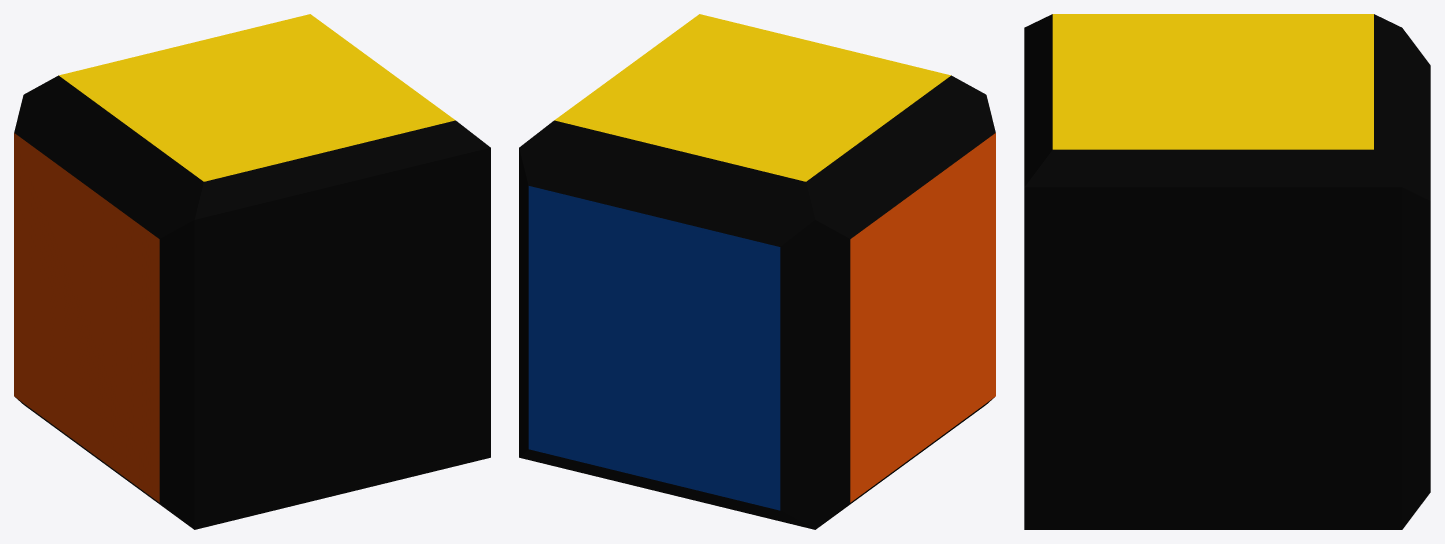
The model's file is rubiks_cube_11.glb.
3 views of the same model, side by side, from view 1: azimuth 30°, elevation 25°; view 2: azimuth 150°, elevation 25°; view 3: azimuth 270°, elevation 25° (orthographic). The views are drawn at different scales.
Parts seen in each view (by area): view 1: Cube11.001; view 2: Cube11.001; view 3: Cube11.001.
Part boxes in pixels (x1,y1,x2,y2): Cube11.001: [14, 14, 490, 529]; Cube11.001: [519, 14, 995, 529]; Cube11.001: [1024, 14, 1430, 529].
Bounding box in the file's own units: 2.15 × 2.15 × 2.15.
